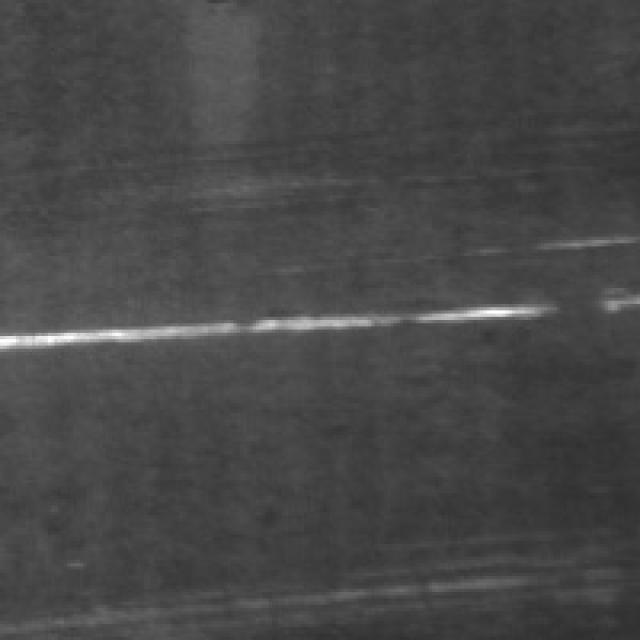scratches: (6, 291, 557, 355)
